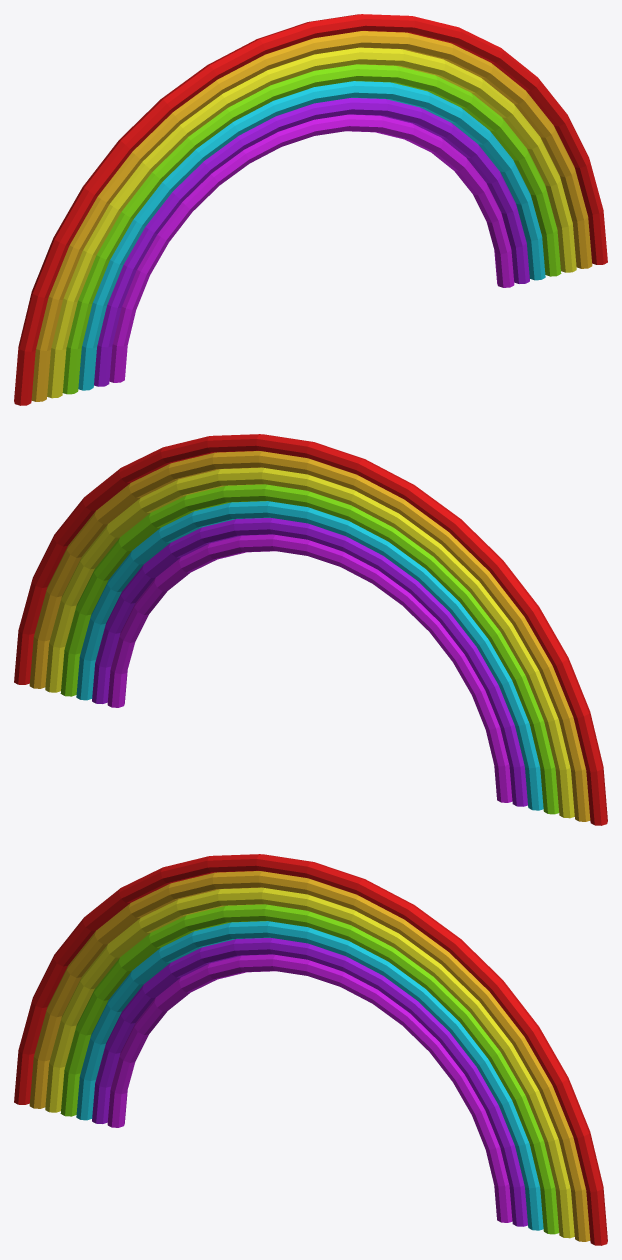
Rendered from sep rainbow.fbx.
The picture shows the model from 3 angles, top to bottom: view 1: azimuth 30°, elevation 25°; view 2: azimuth 150°, elevation 25°; view 3: azimuth 330°, elevation 25°; orthographic projection.
Parts seen in each view (by area): view 1: polySurface1, polySurface2, polySurface3, polySurface4, polySurface5, polySurface6, polySurface7; view 2: polySurface1, polySurface2, polySurface3, polySurface4, polySurface5, polySurface6, polySurface7; view 3: polySurface1, polySurface2, polySurface3, polySurface4, polySurface5, polySurface6, polySurface7.
Boxes of the visible parts, left/top/right/bottom form: polySurface1: left=14, top=14, right=607, bottom=405; polySurface2: left=31, top=31, right=592, bottom=401; polySurface3: left=47, top=47, right=576, bottom=398; polySurface4: left=62, top=64, right=561, bottom=394; polySurface5: left=78, top=81, right=545, bottom=390; polySurface6: left=94, top=98, right=529, bottom=386; polySurface7: left=109, top=114, right=514, bottom=382; polySurface1: left=14, top=434, right=607, bottom=825; polySurface2: left=29, top=451, right=590, bottom=821; polySurface3: left=45, top=467, right=574, bottom=818; polySurface4: left=60, top=484, right=559, bottom=814; polySurface5: left=76, top=501, right=543, bottom=810; polySurface6: left=92, top=518, right=527, bottom=806; polySurface7: left=107, top=534, right=512, bottom=802; polySurface1: left=14, top=854, right=607, bottom=1245; polySurface2: left=29, top=871, right=590, bottom=1241; polySurface3: left=45, top=887, right=574, bottom=1238; polySurface4: left=60, top=904, right=559, bottom=1234; polySurface5: left=76, top=921, right=543, bottom=1230; polySurface6: left=92, top=938, right=527, bottom=1226; polySurface7: left=107, top=954, right=512, bottom=1222.
Size of the model in its own units: 389 by 195 by 10.24.
